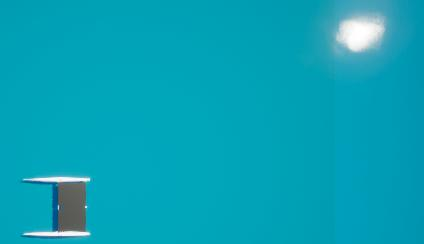boat: (21, 174, 94, 240)
drone: (58, 183, 86, 230)
land_base: (319, 2, 403, 64)
